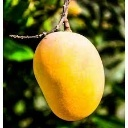mango: (33, 32, 105, 121)
